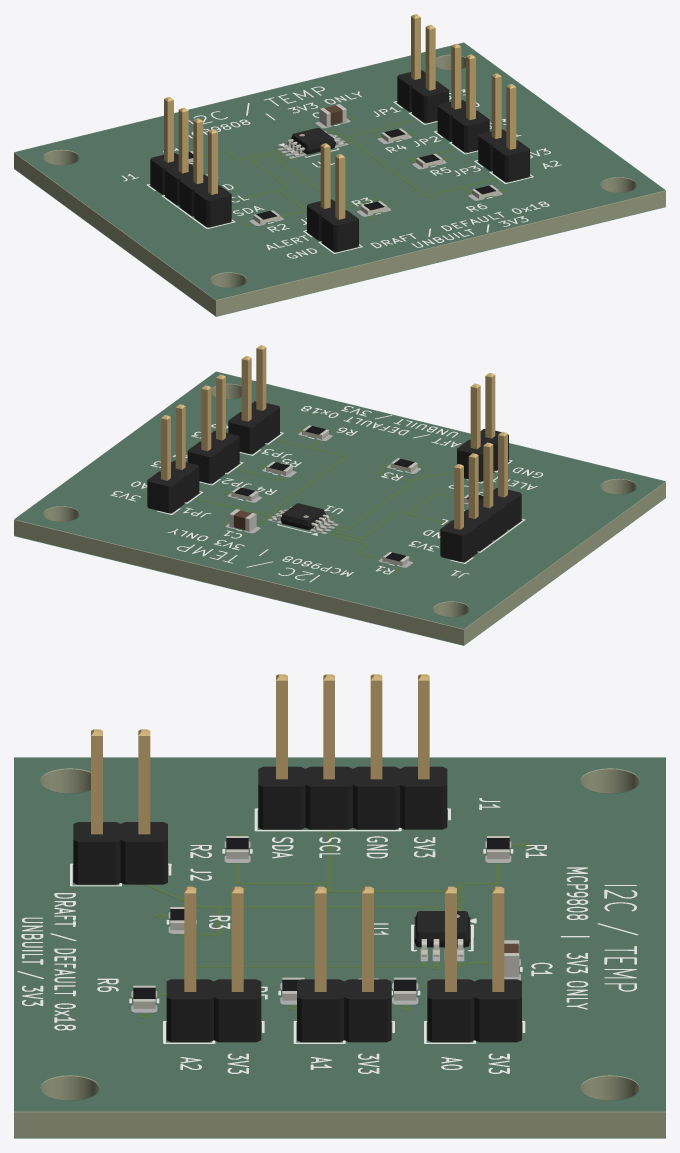
The model's file is i2c-sensor.glb.
3 renders of one model, top to bottom at view 1: azimuth 30°, elevation 25°; view 2: azimuth 150°, elevation 25°; view 3: azimuth 270°, elevation 25°, orthographic. The views are drawn at different scales.
Parts seen in each view (by area): view 1: =>[0:1:1:18], =>[0:1:1:16], =>[0:1:1:5] (×4), =>[0:1:1:7], =>[0:1:1:15], =>[0:1:1:11], =>[0:1:1:12], =>[0:1:1:17], =>[0:1:1:13], =>[0:1:1:9]; view 2: =>[0:1:1:18], =>[0:1:1:16], =>[0:1:1:5] (×4), =>[0:1:1:7], =>[0:1:1:15], =>[0:1:1:12], =>[0:1:1:11], =>[0:1:1:17], =>[0:1:1:13], =>[0:1:1:9]; view 3: =>[0:1:1:18], =>[0:1:1:16], =>[0:1:1:5] (×4), =>[0:1:1:7], =>[0:1:1:15], =>[0:1:1:12], =>[0:1:1:11], =>[0:1:1:13].
Part boxes in pixels (<box>): =>[0:1:1:18]: <box>14,43,665,316</box>; =>[0:1:1:16]: <box>14,42,665,299</box>; =>[0:1:1:5] (×4): <box>307,14,529,251</box>; =>[0:1:1:7]: <box>150,97,231,227</box>; =>[0:1:1:15]: <box>122,86,561,258</box>; =>[0:1:1:11]: <box>282,127,344,156</box>; =>[0:1:1:12]: <box>204,117,506,226</box>; =>[0:1:1:17]: <box>14,169,665,316</box>; =>[0:1:1:13]: <box>249,118,502,225</box>; =>[0:1:1:9]: <box>319,104,346,126</box>; =>[0:1:1:18]: <box>14,372,665,645</box>; =>[0:1:1:16]: <box>14,371,665,628</box>; =>[0:1:1:5] (×4): <box>147,345,508,512</box>; =>[0:1:1:7]: <box>440,431,521,561</box>; =>[0:1:1:15]: <box>110,406,543,582</box>; =>[0:1:1:12]: <box>195,430,453,571</box>; =>[0:1:1:11]: <box>272,503,334,532</box>; =>[0:1:1:17]: <box>14,498,665,645</box>; =>[0:1:1:13]: <box>225,431,468,567</box>; =>[0:1:1:9]: <box>229,509,256,531</box>; =>[0:1:1:18]: <box>14,758,665,1137</box>; =>[0:1:1:16]: <box>14,757,665,1111</box>; =>[0:1:1:5] (×4): <box>73,729,521,1042</box>; =>[0:1:1:7]: <box>258,674,447,829</box>; =>[0:1:1:15]: <box>17,798,638,1073</box>; =>[0:1:1:12]: <box>139,832,530,1017</box>; =>[0:1:1:11]: <box>414,911,470,956</box>; =>[0:1:1:13]: <box>131,841,520,1012</box>.
Size of the model in its own units: 0.045 by 0.0115 by 0.035.
